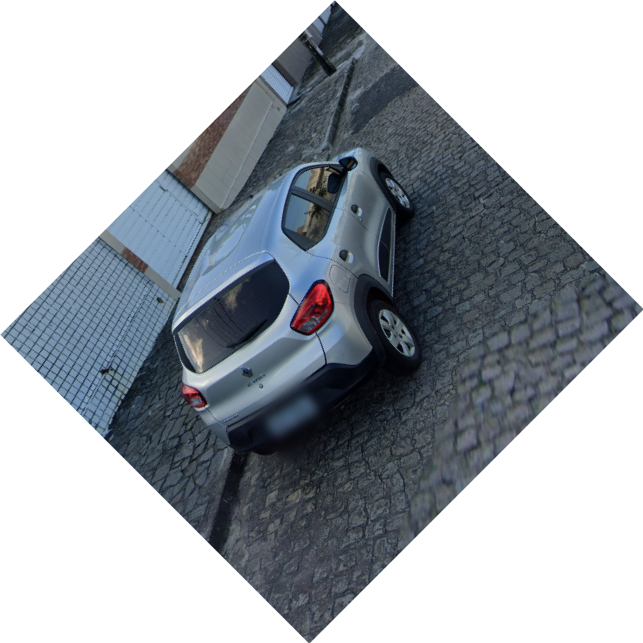car: (167, 144, 424, 454)
